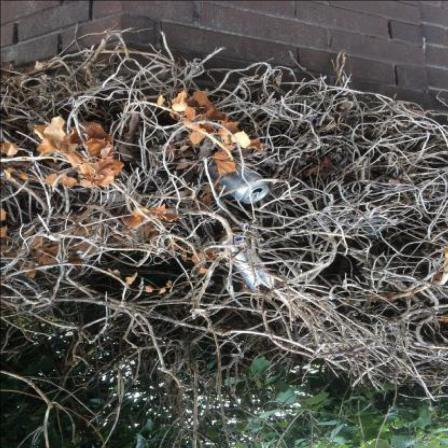Can: (223, 234, 280, 292), (209, 162, 270, 205)
Pop tab: (252, 193, 260, 203)
